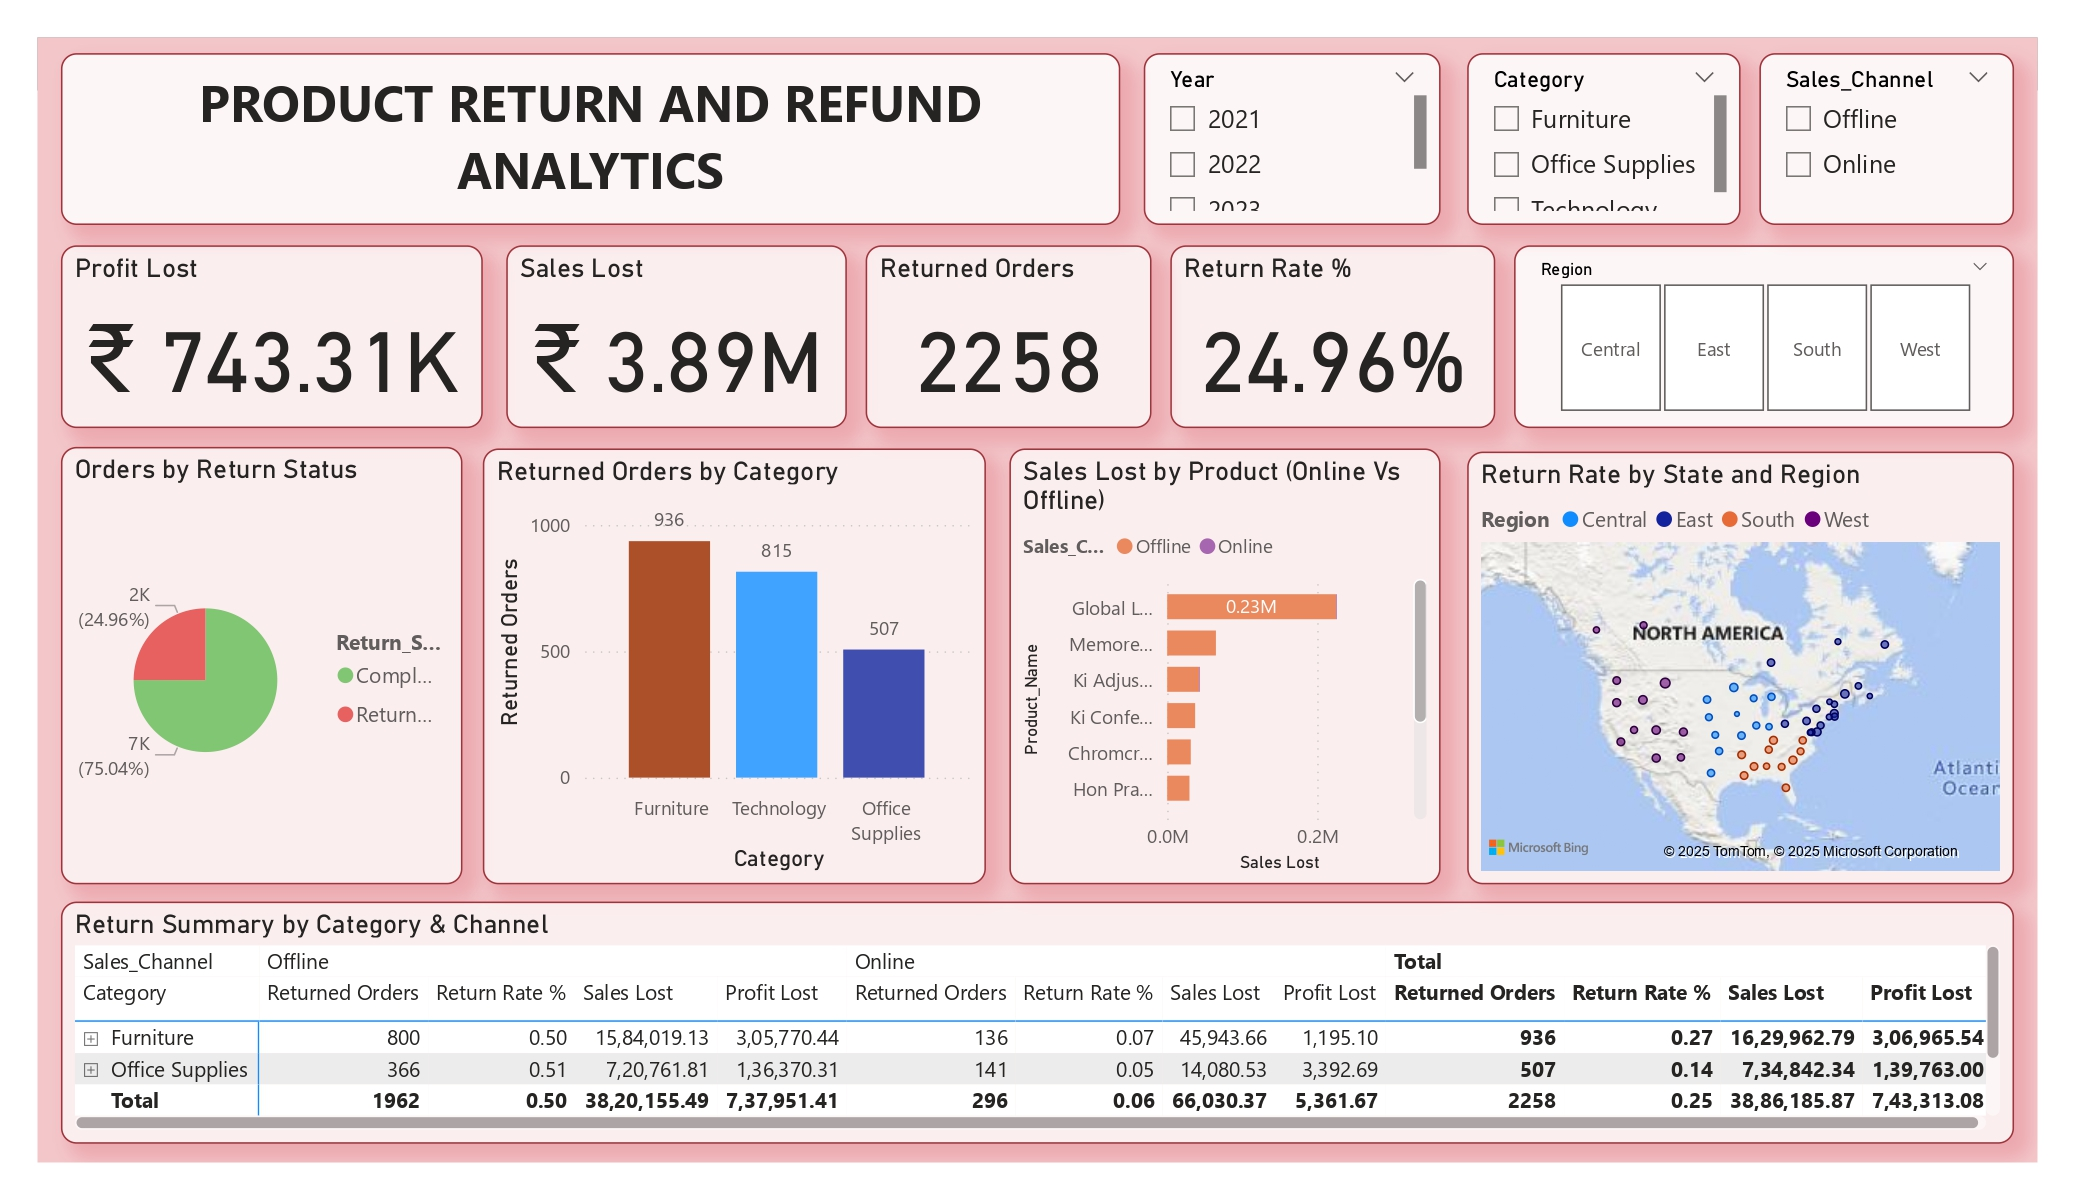

Layout of this report page (visuals, bound fields, positions):
{"tool":"powerbi","page":{"name":"Product return & refund analytics","canvas":[1280,720],"ordinal":3},"visuals":[{"type":"card","title":"Return Rate %","fields":{"Values":["MyMeasures.Return Rate %"]},"box":[725,133.3,208.3,116.7],"z":0},{"type":"card","title":"Profit Lost","fields":{"Values":["MyMeasures.Profit Lost"]},"box":[15,133.3,270,116.7],"z":1000},{"type":"card","title":"Sales Lost","fields":{"Values":["MyMeasures.Sales Lost"]},"box":[300,133.3,218.3,116.7],"z":2000},{"type":"card","title":"Returned Orders","fields":{"Values":["MyMeasures.Returned Orders"]},"box":[530,133.3,183.3,116.7],"z":3000},{"type":"pieChart","title":"Orders by Return Status","fields":{"Category":["Sales.Return_Status"],"Y":["MyMeasures.Total Orders"]},"box":[15,261.7,256.7,280],"z":4000},{"type":"clusteredColumnChart","title":"Returned Orders by Category","fields":{"Category":["Product.Category"],"Y":["MyMeasures.Returned Orders"]},"box":[285,263.3,321.7,278.3],"z":5000},{"type":"barChart","title":"Sales Lost by Product (Online Vs Offline)","fields":{"Y":["MyMeasures.Sales Lost"],"Series":["Sales.Sales_Channel"],"Category":["Product.Product_Name"]},"box":[621.7,263.3,276.7,278.3],"z":6000},{"type":"map","title":"Return Rate by State and Region","fields":{"Series":["Sales.Region"],"Category":["Sales.State"],"Size":["MyMeasures.Return Rate %"]},"box":[915,265,350,276.7],"z":7000},{"type":"pivotTable","title":"Return Summary by Category & Channel","fields":{"Rows":["Product.Category","Product.Product_Name"],"Columns":["SalesChannel.Sales_Channel"],"Values":["MyMeasures.Returned Orders","MyMeasures.Return Rate %","MyMeasures.Sales Lost","MyMeasures.Profit Lost"]},"box":[15,553.3,1250,155],"z":8000},{"type":"slicer","fields":{"Values":["Region_Dim.Region"]},"box":[945,133.3,320,116.7],"z":9000},{"type":"slicer","fields":{"Values":["DateTable.Year"]},"box":[708.3,10,190,110],"z":10000},{"type":"slicer","fields":{"Values":["Product.Category"]},"box":[915,10,175,110],"z":11000},{"type":"slicer","fields":{"Values":["SalesChannel.Sales_Channel"]},"box":[1101.7,10,163.3,110],"z":12000},{"type":"textbox","box":[15,10,678.3,110],"z":13000}]}

Visuals, with their boxes on the page's 1280x720 design canvas (x1, y1, x2, y2). These are canvas units, not pixel positions in the 2075x1200 screenshot, which may show the page scaled, cropped or inside an application window:
"Return Rate %" card: left=725, top=133, right=933, bottom=250
"Profit Lost" card: left=15, top=133, right=285, bottom=250
"Sales Lost" card: left=300, top=133, right=518, bottom=250
"Returned Orders" card: left=530, top=133, right=713, bottom=250
"Orders by Return Status" pieChart: left=15, top=262, right=272, bottom=542
"Returned Orders by Category" clusteredColumnChart: left=285, top=263, right=607, bottom=542
"Sales Lost by Product (Online Vs Offline)" barChart: left=622, top=263, right=898, bottom=542
"Return Rate by State and Region" map: left=915, top=265, right=1265, bottom=542
"Return Summary by Category & Channel" pivotTable: left=15, top=553, right=1265, bottom=708
slicer - Region_Dim.Region: left=945, top=133, right=1265, bottom=250
slicer - DateTable.Year: left=708, top=10, right=898, bottom=120
slicer - Product.Category: left=915, top=10, right=1090, bottom=120
slicer - SalesChannel.Sales_Channel: left=1102, top=10, right=1265, bottom=120
textbox: left=15, top=10, right=693, bottom=120
